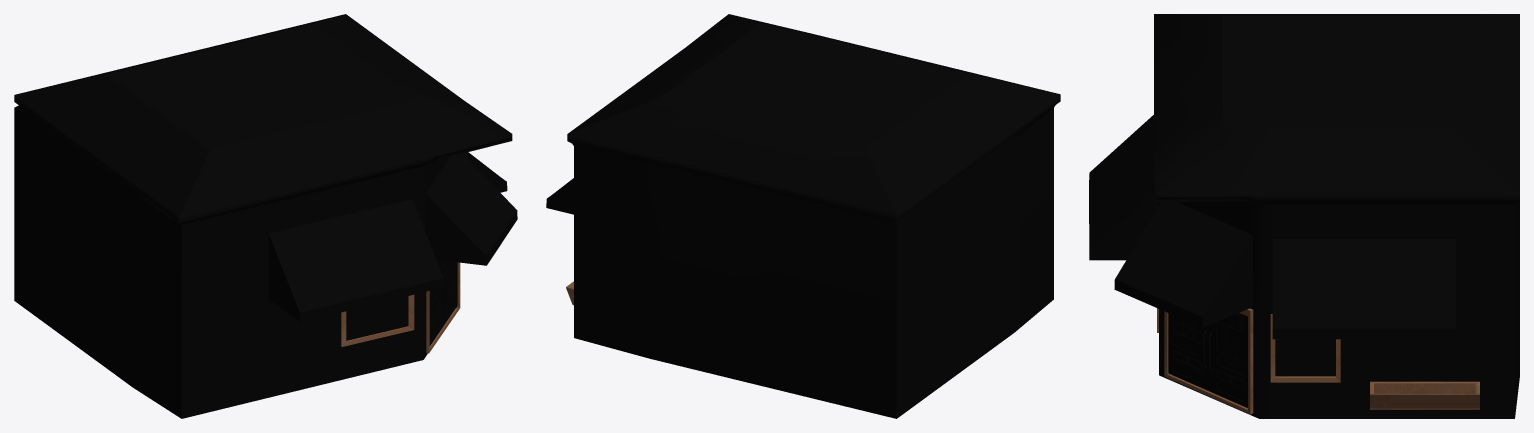
The model's file is PizzaPlace.obj.
The picture shows the model from 3 angles, left to right: view 1: azimuth 30°, elevation 25°; view 2: azimuth 150°, elevation 25°; view 3: azimuth 270°, elevation 25°; orthographic projection. The views are drawn at different scales.
Visible parts, largest first — view 1: Pizza_Place Pizza_Place Buildings, Pizza_Place Buildings Cover2, Pizza_Place Buildings Cover3, Pizza_Place Buildings Windows Glass_Wall2, Pizza_Place Buildings Double_Door, Pizza_Place Buildings Windows Window_Frame2, Pizza_Place Buildings Double_Door_Frame, Pizza_Place Buildings Cover1; view 2: Pizza_Place Pizza_Place Buildings, Pizza_Place Buildings Cover1; view 3: Pizza_Place Pizza_Place Buildings, Pizza_Place Buildings Cover1, Pizza_Place Buildings Cover3, Pizza_Place Buildings Cover2, Pizza_Place Buildings Double_Door, Pizza_Place Buildings Planter_Box, Pizza_Place Buildings Windows Glass_Wall1, Pizza_Place Buildings Double_Door_Frame, Pizza_Place Buildings Window_Frame1 Windows, Pizza_Place Buildings Window2, Pizza_Place Buildings Window1.
Part boxes in pixels (x1=…): Pizza_Place Pizza_Place Buildings: x1=14, y1=14, x2=512, y2=418; Pizza_Place Buildings Cover2: x1=268, y1=199, x2=443, y2=322; Pizza_Place Buildings Cover3: x1=425, y1=153, x2=517, y2=265; Pizza_Place Buildings Windows Glass_Wall2: x1=346, y1=296, x2=407, y2=340; Pizza_Place Buildings Double_Door: x1=429, y1=260, x2=457, y2=345; Pizza_Place Buildings Windows Window_Frame2: x1=341, y1=294, x2=414, y2=347; Pizza_Place Buildings Double_Door_Frame: x1=426, y1=262, x2=460, y2=353; Pizza_Place Buildings Cover1: x1=463, y1=152, x2=507, y2=192; Pizza_Place Pizza_Place Buildings: x1=567, y1=14, x2=1060, y2=418; Pizza_Place Buildings Cover1: x1=546, y1=178, x2=573, y2=214; Pizza_Place Pizza_Place Buildings: x1=1154, y1=14, x2=1519, y2=418; Pizza_Place Buildings Cover1: x1=1272, y1=239, x2=1456, y2=339; Pizza_Place Buildings Cover3: x1=1114, y1=202, x2=1252, y2=327; Pizza_Place Buildings Cover2: x1=1089, y1=115, x2=1158, y2=260; Pizza_Place Buildings Double_Door: x1=1168, y1=313, x2=1247, y2=407; Pizza_Place Buildings Planter_Box: x1=1370, y1=381, x2=1479, y2=409; Pizza_Place Buildings Windows Glass_Wall1: x1=1275, y1=339, x2=1335, y2=376; Pizza_Place Buildings Double_Door_Frame: x1=1164, y1=308, x2=1253, y2=414; Pizza_Place Buildings Window_Frame1 Windows: x1=1270, y1=314, x2=1340, y2=382; Pizza_Place Buildings Window2: x1=1216, y1=322, x2=1244, y2=361; Pizza_Place Buildings Window1: x1=1173, y1=315, x2=1202, y2=342.
Bounding box in the file's own units: 60.95 × 35.79 × 53.82.
7 materials, 2 textured.
